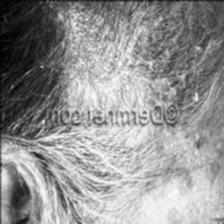Non-Cancerous Skin Condition: (161, 74, 187, 108), (207, 140, 223, 182), (194, 136, 202, 150)
